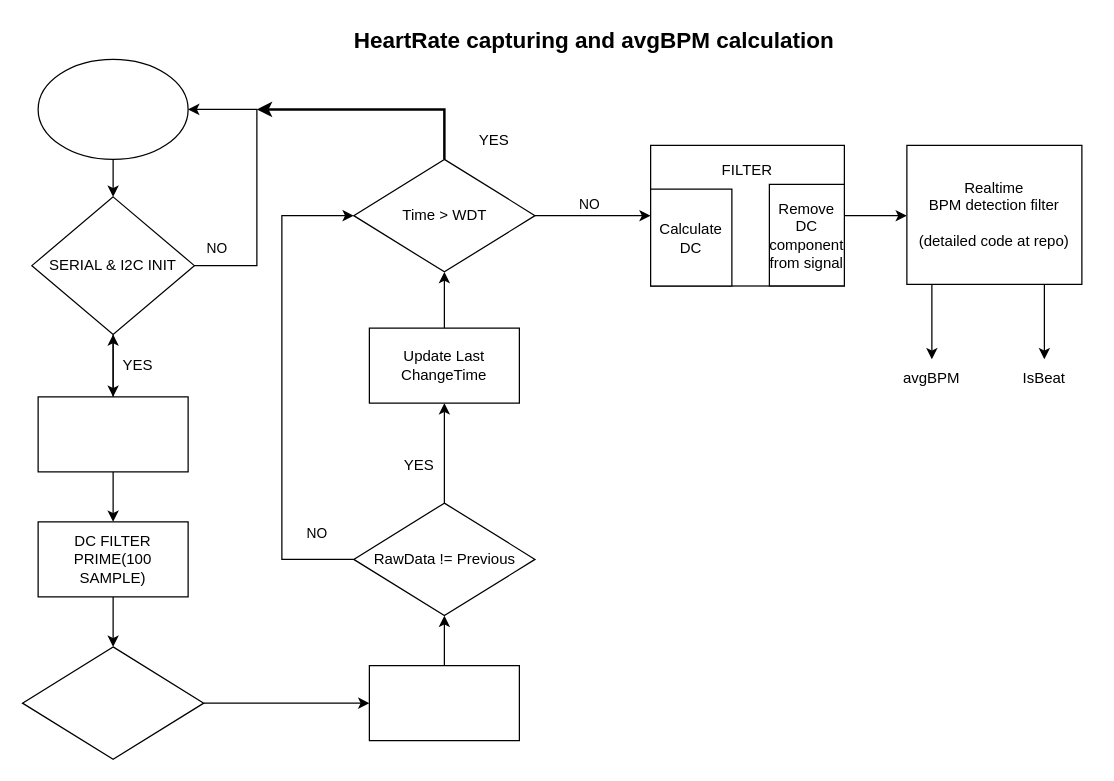
This 1114x781 diagram has some shape labels left out. Here are the shapes that lost their labels. From the top down, the box of each, then its label:
(37, 58, 188, 159): START
(37, 396, 188, 472): SENSOR CONFIGURATION
(21, 646, 204, 759): Last Change = Milis()
(368, 664, 519, 741): Get Raw IR Data
